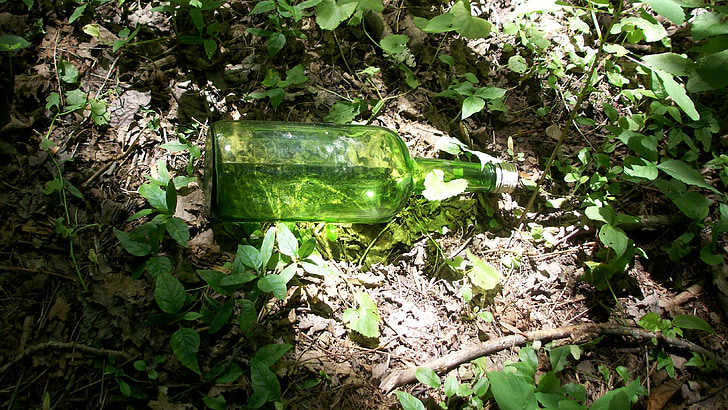glass_bottle: (189, 107, 531, 241)
